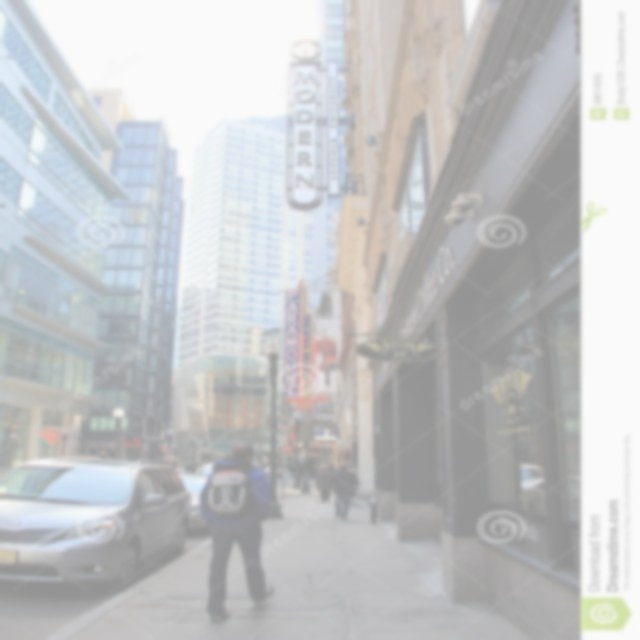pessoa: (195, 438, 280, 624), (329, 462, 359, 520), (315, 463, 335, 505), (288, 458, 320, 480), (346, 462, 360, 482), (182, 460, 198, 476), (326, 462, 334, 474), (250, 461, 258, 472)
